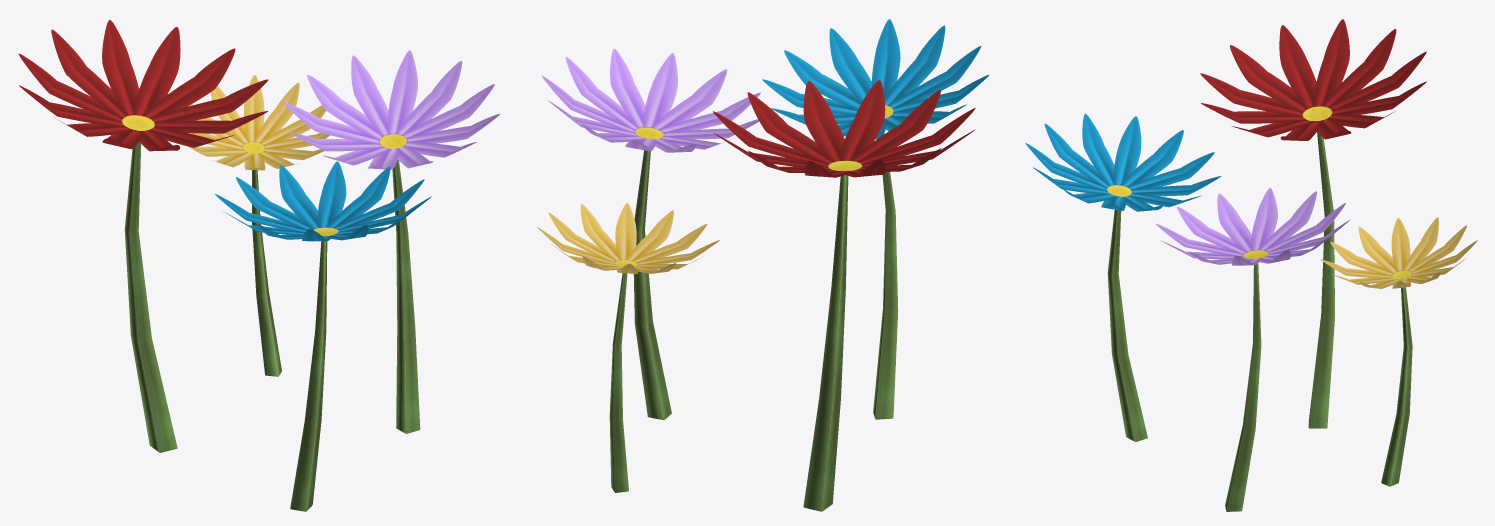
Rendered from flowers2.fbx.
3 views of the same model, side by side, from view 1: azimuth 30°, elevation 25°; view 2: azimuth 150°, elevation 25°; view 3: azimuth 270°, elevation 25° (orthographic). The views are drawn at different scales.
Visible parts, largest first — view 1: Plane.000, Plane.002, Plane.003, Plane.004; view 2: Plane.000, Plane.002, Plane.003, Plane.004; view 3: Plane.000, Plane.003, Plane.002, Plane.004.
Boxes of the visible parts, x1=… form: Plane.000: x1=18, y1=20, x2=268, y2=452; Plane.002: x1=284, y1=50, x2=499, y2=433; Plane.003: x1=215, y1=161, x2=431, y2=511; Plane.004: x1=187, y1=75, x2=329, y2=376; Plane.000: x1=713, y1=80, x2=975, y2=511; Plane.002: x1=542, y1=48, x2=760, y2=420; Plane.003: x1=762, y1=19, x2=988, y2=419; Plane.004: x1=537, y1=203, x2=719, y2=492; Plane.000: x1=1200, y1=19, x2=1426, y2=428; Plane.003: x1=1025, y1=113, x2=1221, y2=441; Plane.002: x1=1156, y1=188, x2=1350, y2=511; Plane.004: x1=1320, y1=217, x2=1477, y2=486.
Bounding box in the file's own units: 55.81 × 49.09 × 57.66.
